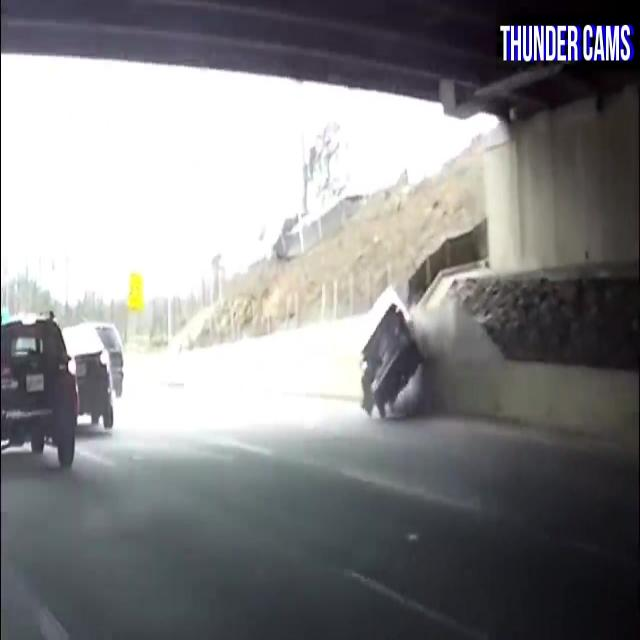accident: (344, 269, 437, 427)
